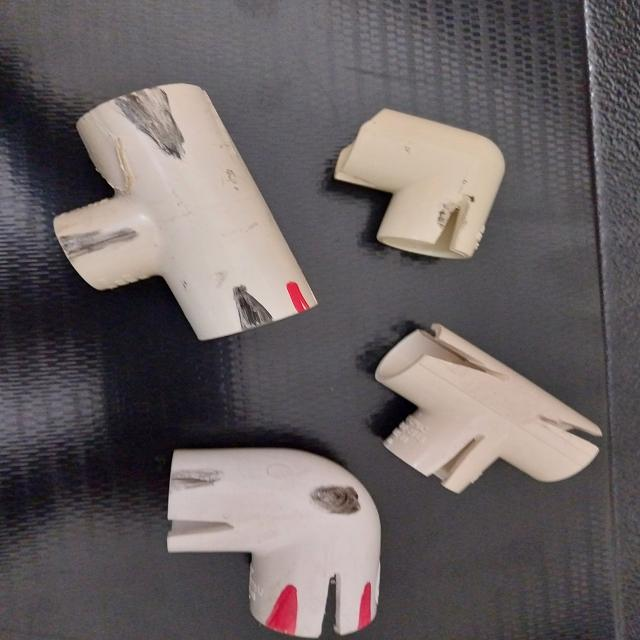Defective: (416, 321, 499, 383), (121, 93, 189, 160), (166, 502, 236, 545), (539, 412, 606, 456), (436, 436, 484, 486), (70, 231, 138, 262), (434, 195, 466, 256), (316, 574, 342, 640), (309, 486, 364, 516), (235, 289, 269, 333), (266, 589, 298, 632), (359, 586, 374, 634), (288, 284, 310, 312), (175, 476, 219, 489)
L Joint: (164, 444, 382, 637), (332, 108, 503, 263)
T Joint: (55, 84, 322, 346), (375, 317, 604, 496)
